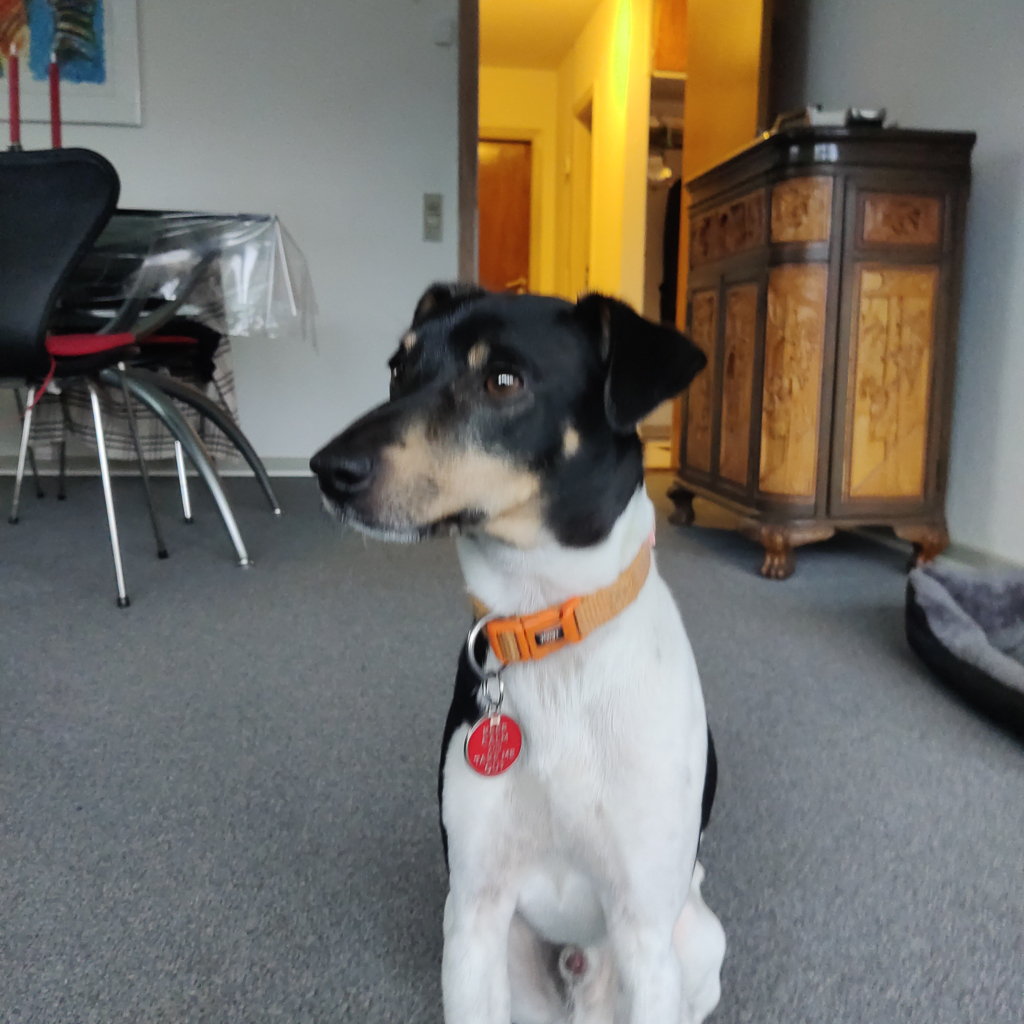Dog: (291, 254, 749, 1024)
